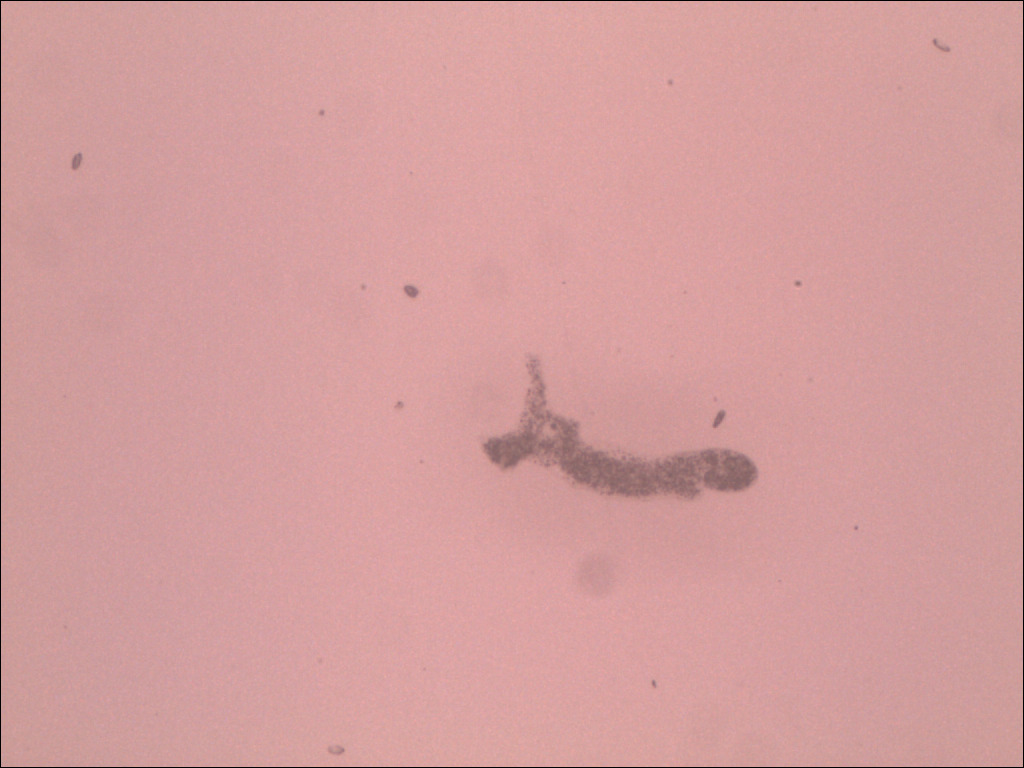amoeba: (477, 348, 774, 509)
